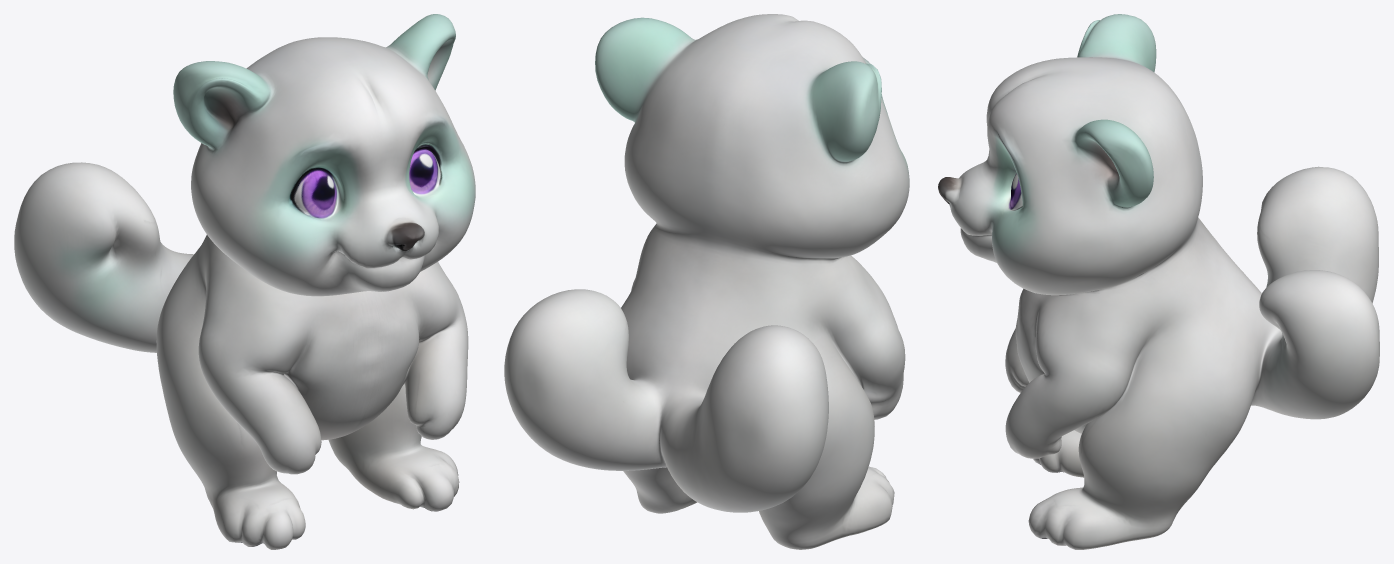
The model's file is meadow_creature-source.glb.
3 views of the same model, side by side, from view 1: azimuth 30°, elevation 25°; view 2: azimuth 150°, elevation 25°; view 3: azimuth 270°, elevation 25° (orthographic). The views are drawn at different scales.
Parts seen in each view (by area): view 1: model; view 2: model; view 3: model.
Boxes of the visible parts, left/top/right/bottom form: model: left=14, top=14, right=475, bottom=549; model: left=504, top=14, right=909, bottom=549; model: left=938, top=14, right=1379, bottom=549.
Size of the model in its own units: 1.37 by 1.9 by 1.75.
Materials: 1 (1 with a texture image).
